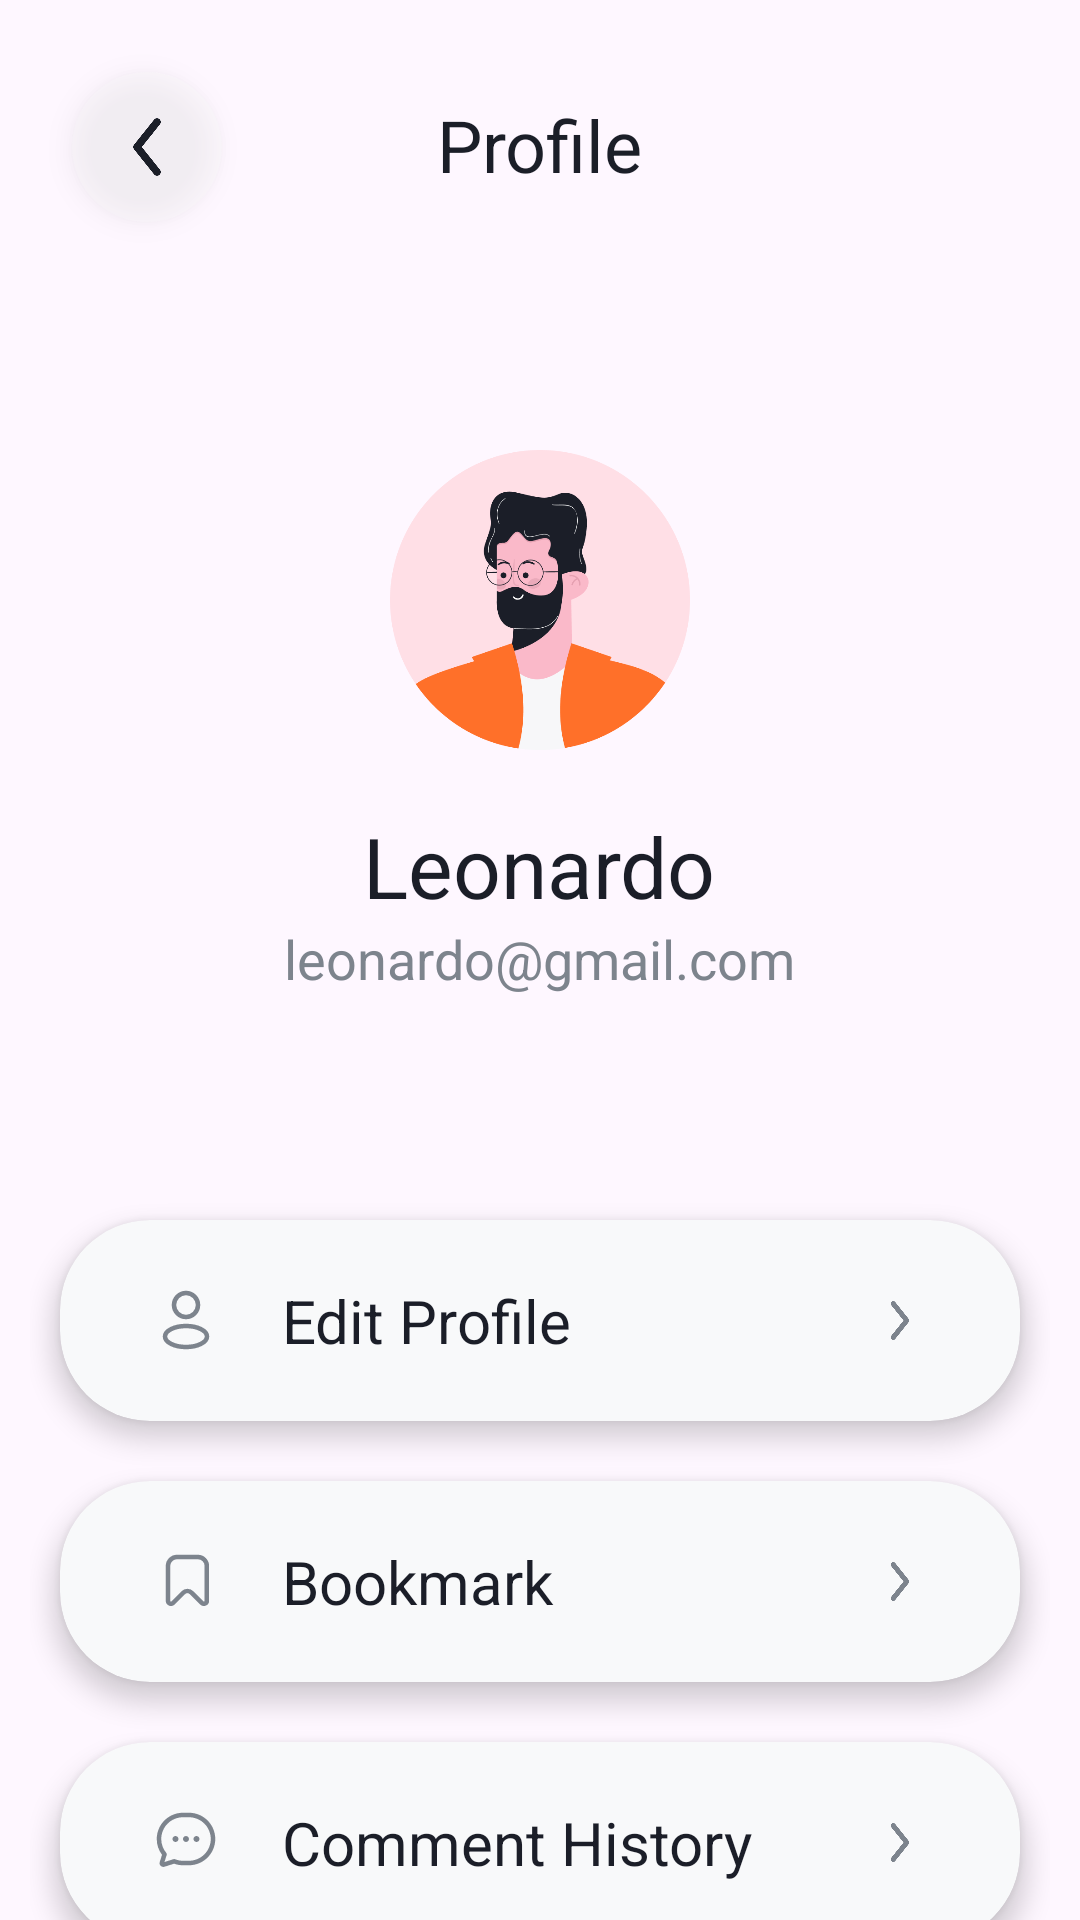

Icon click points for this 1080px x 1920px phone screenshot, format [x,y]:
chat: [186,1839]
profpic: [540,599]
